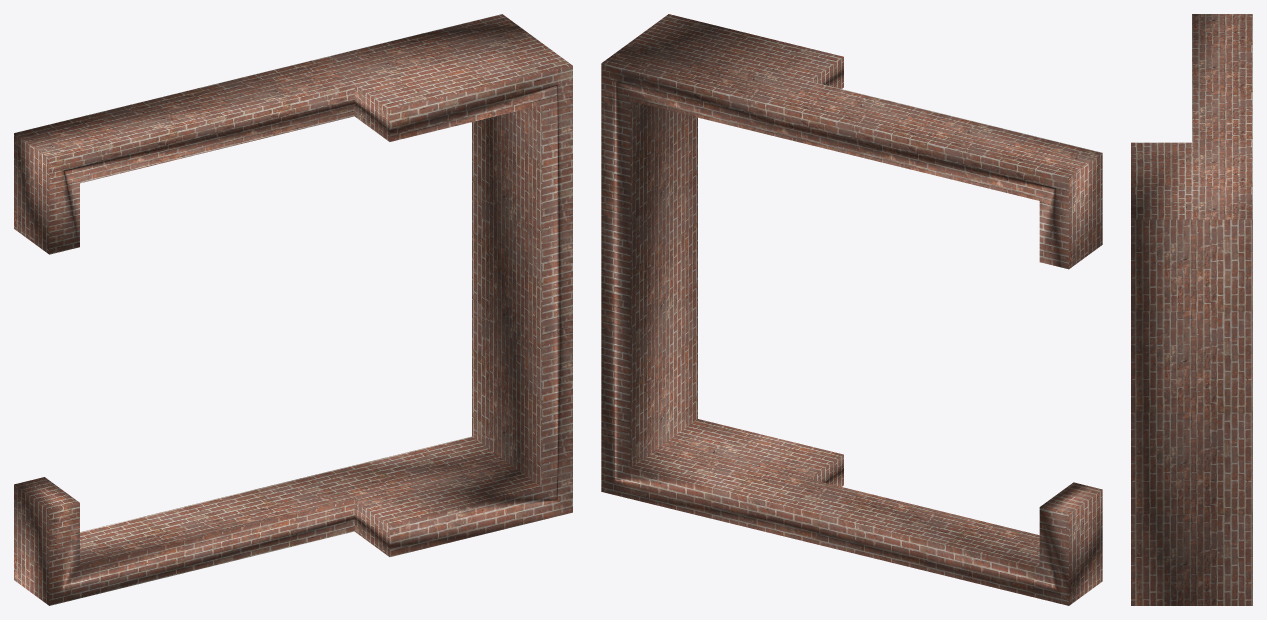
The model's file is wall2.DAE.
3 renders of one model, left to right at view 1: azimuth 30°, elevation 25°; view 2: azimuth 150°, elevation 25°; view 3: azimuth 270°, elevation 25°, orthographic. The views are drawn at different scales.
Visible parts, largest first — view 1: adventureplaygound01a; view 2: adventureplaygound01a; view 3: adventureplaygound01a.
Boxes of the visible parts, x1,y1,x2,y2 form: adventureplaygound01a: (14, 14, 572, 605); adventureplaygound01a: (601, 14, 1102, 605); adventureplaygound01a: (1131, 14, 1252, 605).
Size of the model in its own units: 315 by 276 by 78.74.
